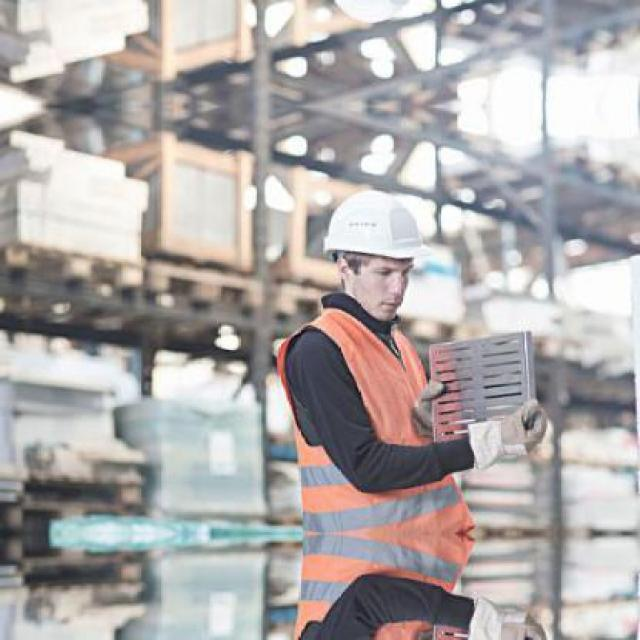Reflective-Jacket: (269, 310, 477, 537)
Safety-Helmet: (312, 180, 438, 274)
